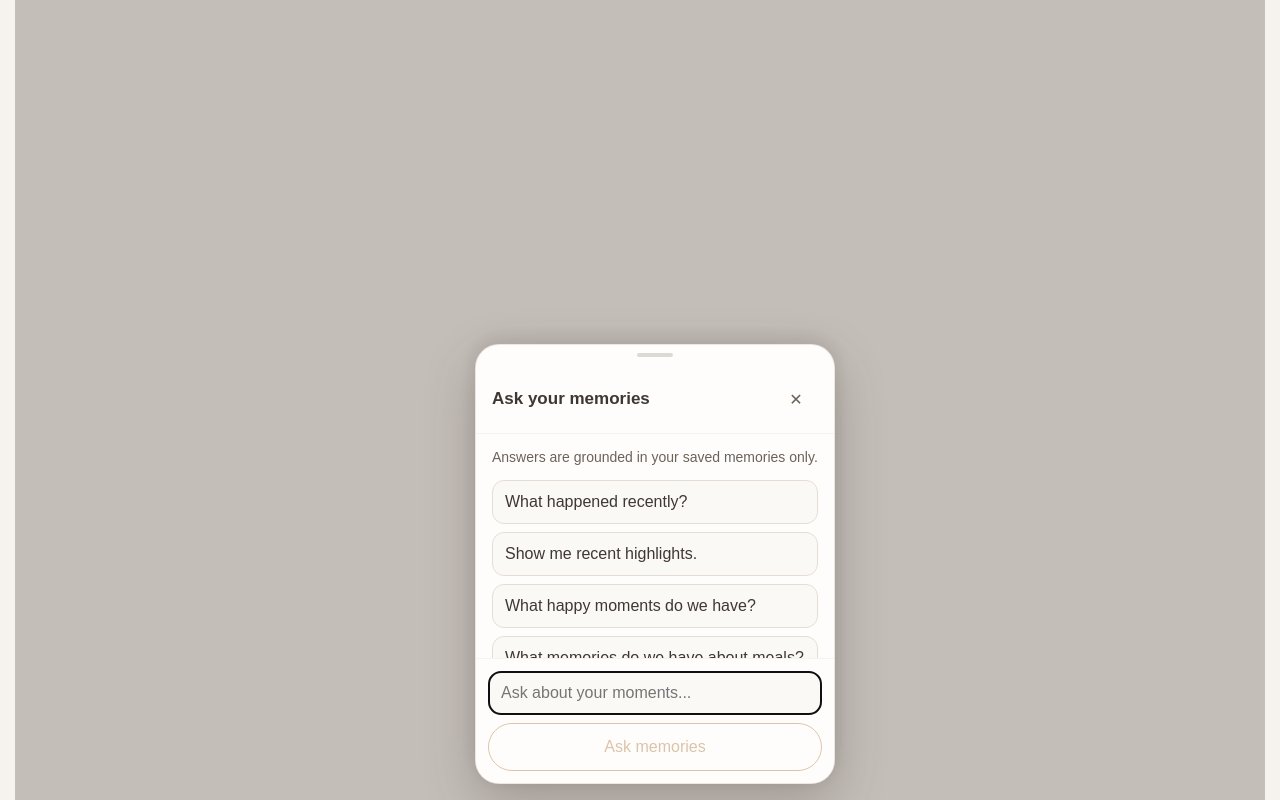
it: MemoryChatSheet › shows an out-of-scope hint for unsupported requests
Click the button "What happened recently?" at (655, 502), box [492,480,818,524]
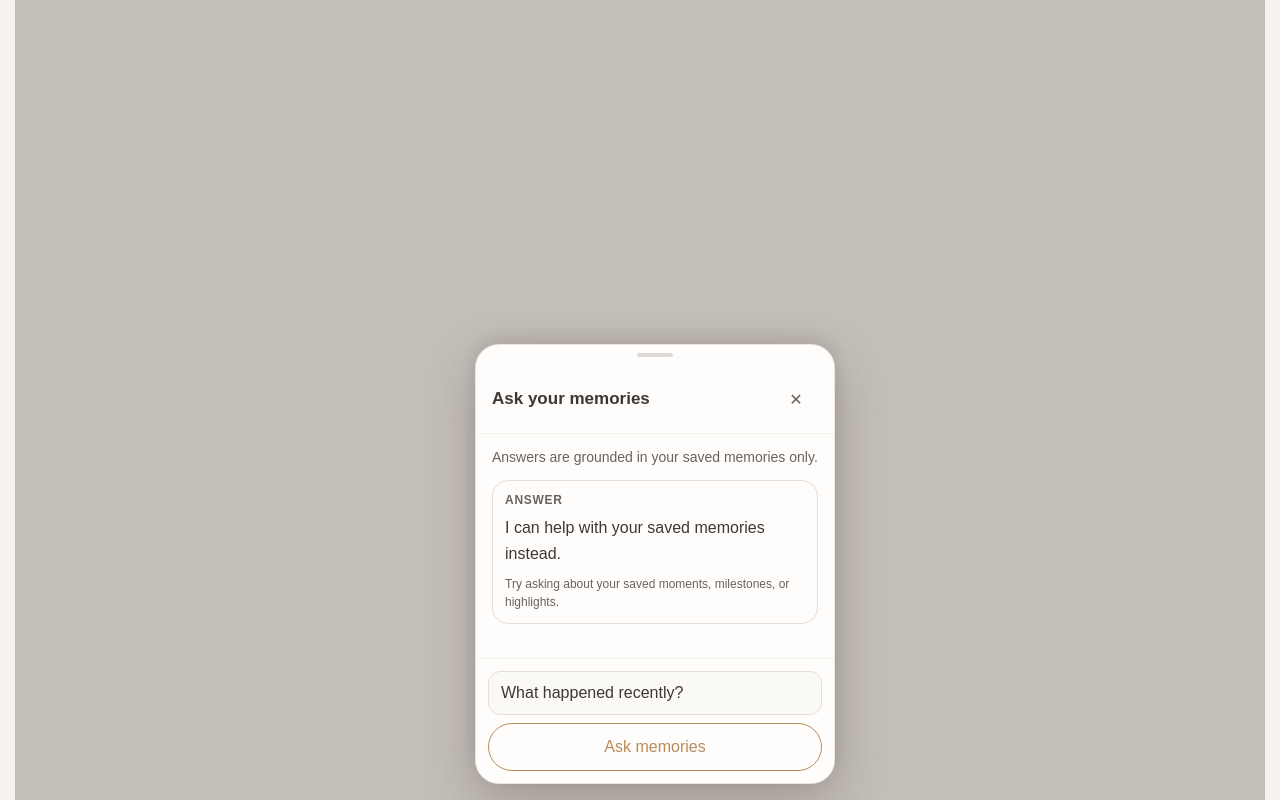
Expected: the text "Try asking about your saved moments, milestones, or highlights." is shown, [505,575,805,611]
